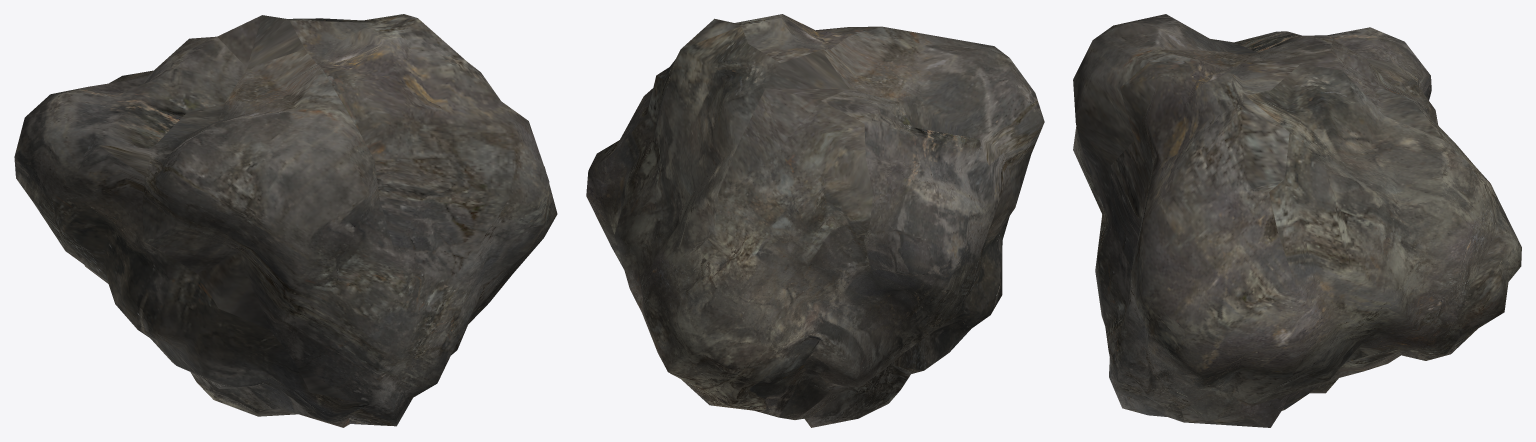
File: Stone_Larg.fbx
The picture shows the model from 3 angles, left to right: view 1: azimuth 30°, elevation 25°; view 2: azimuth 150°, elevation 25°; view 3: azimuth 270°, elevation 25°; orthographic projection. The views are drawn at different scales.
Visible parts, largest first — view 1: Stone_Larg; view 2: Stone_Larg; view 3: Stone_Larg.
Boxes of the visible parts, x1,y1,x2,y2 form: Stone_Larg: (14, 14, 557, 427); Stone_Larg: (586, 14, 1044, 427); Stone_Larg: (1073, 14, 1521, 427).
Size of the model in its own units: 172 by 139 by 153.
